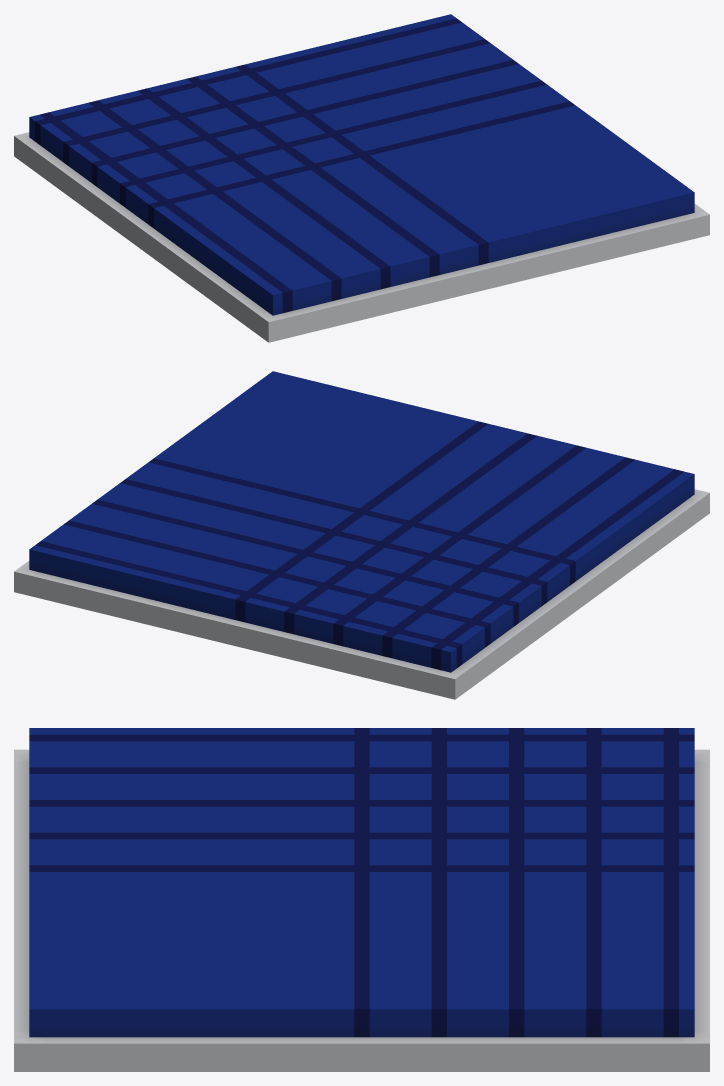
The model's file is solar_body.glb.
3 renders of one model, top to bottom at view 1: azimuth 30°, elevation 25°; view 2: azimuth 150°, elevation 25°; view 3: azimuth 270°, elevation 25°, orthographic. The views are drawn at different scales.
Visible parts, largest first — view 1: solar_body; view 2: solar_body; view 3: solar_body.
Part boxes in pixels (box(x1,y1,x2,y2)): solar_body: box(14, 14, 709, 342); solar_body: box(14, 371, 709, 699); solar_body: box(14, 728, 709, 1071).
Size of the model in its own units: 0.7031 by 0.0625 by 0.7031.
